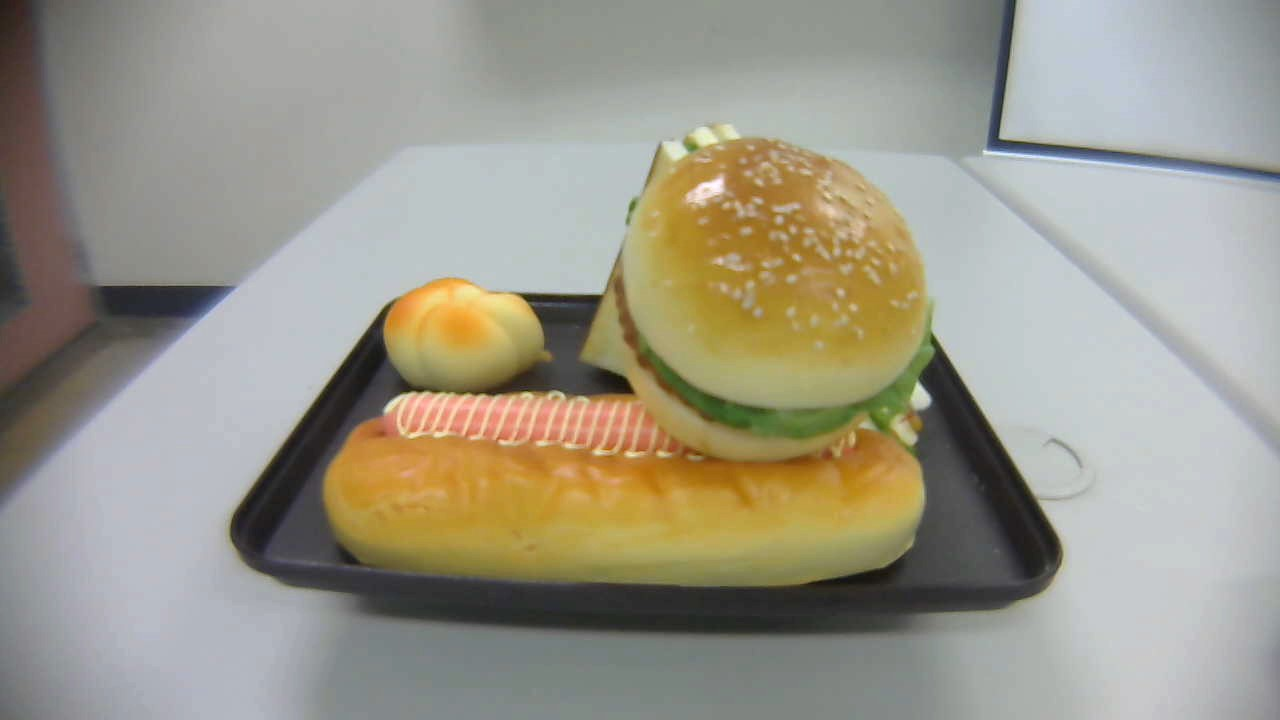hamburger: (613, 137, 933, 463)
hot dog: (324, 391, 927, 587)
sandwich: (575, 123, 936, 416)
twist bread: (381, 275, 554, 394)
